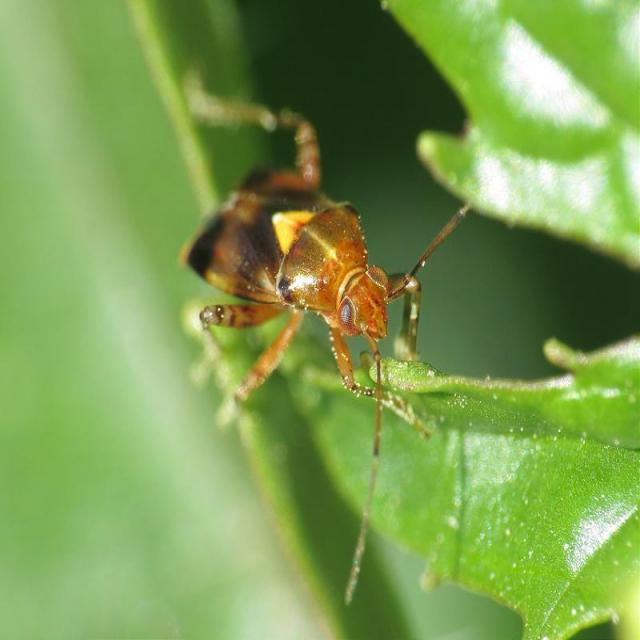Miridae-Adult-: (179, 80, 484, 525)
